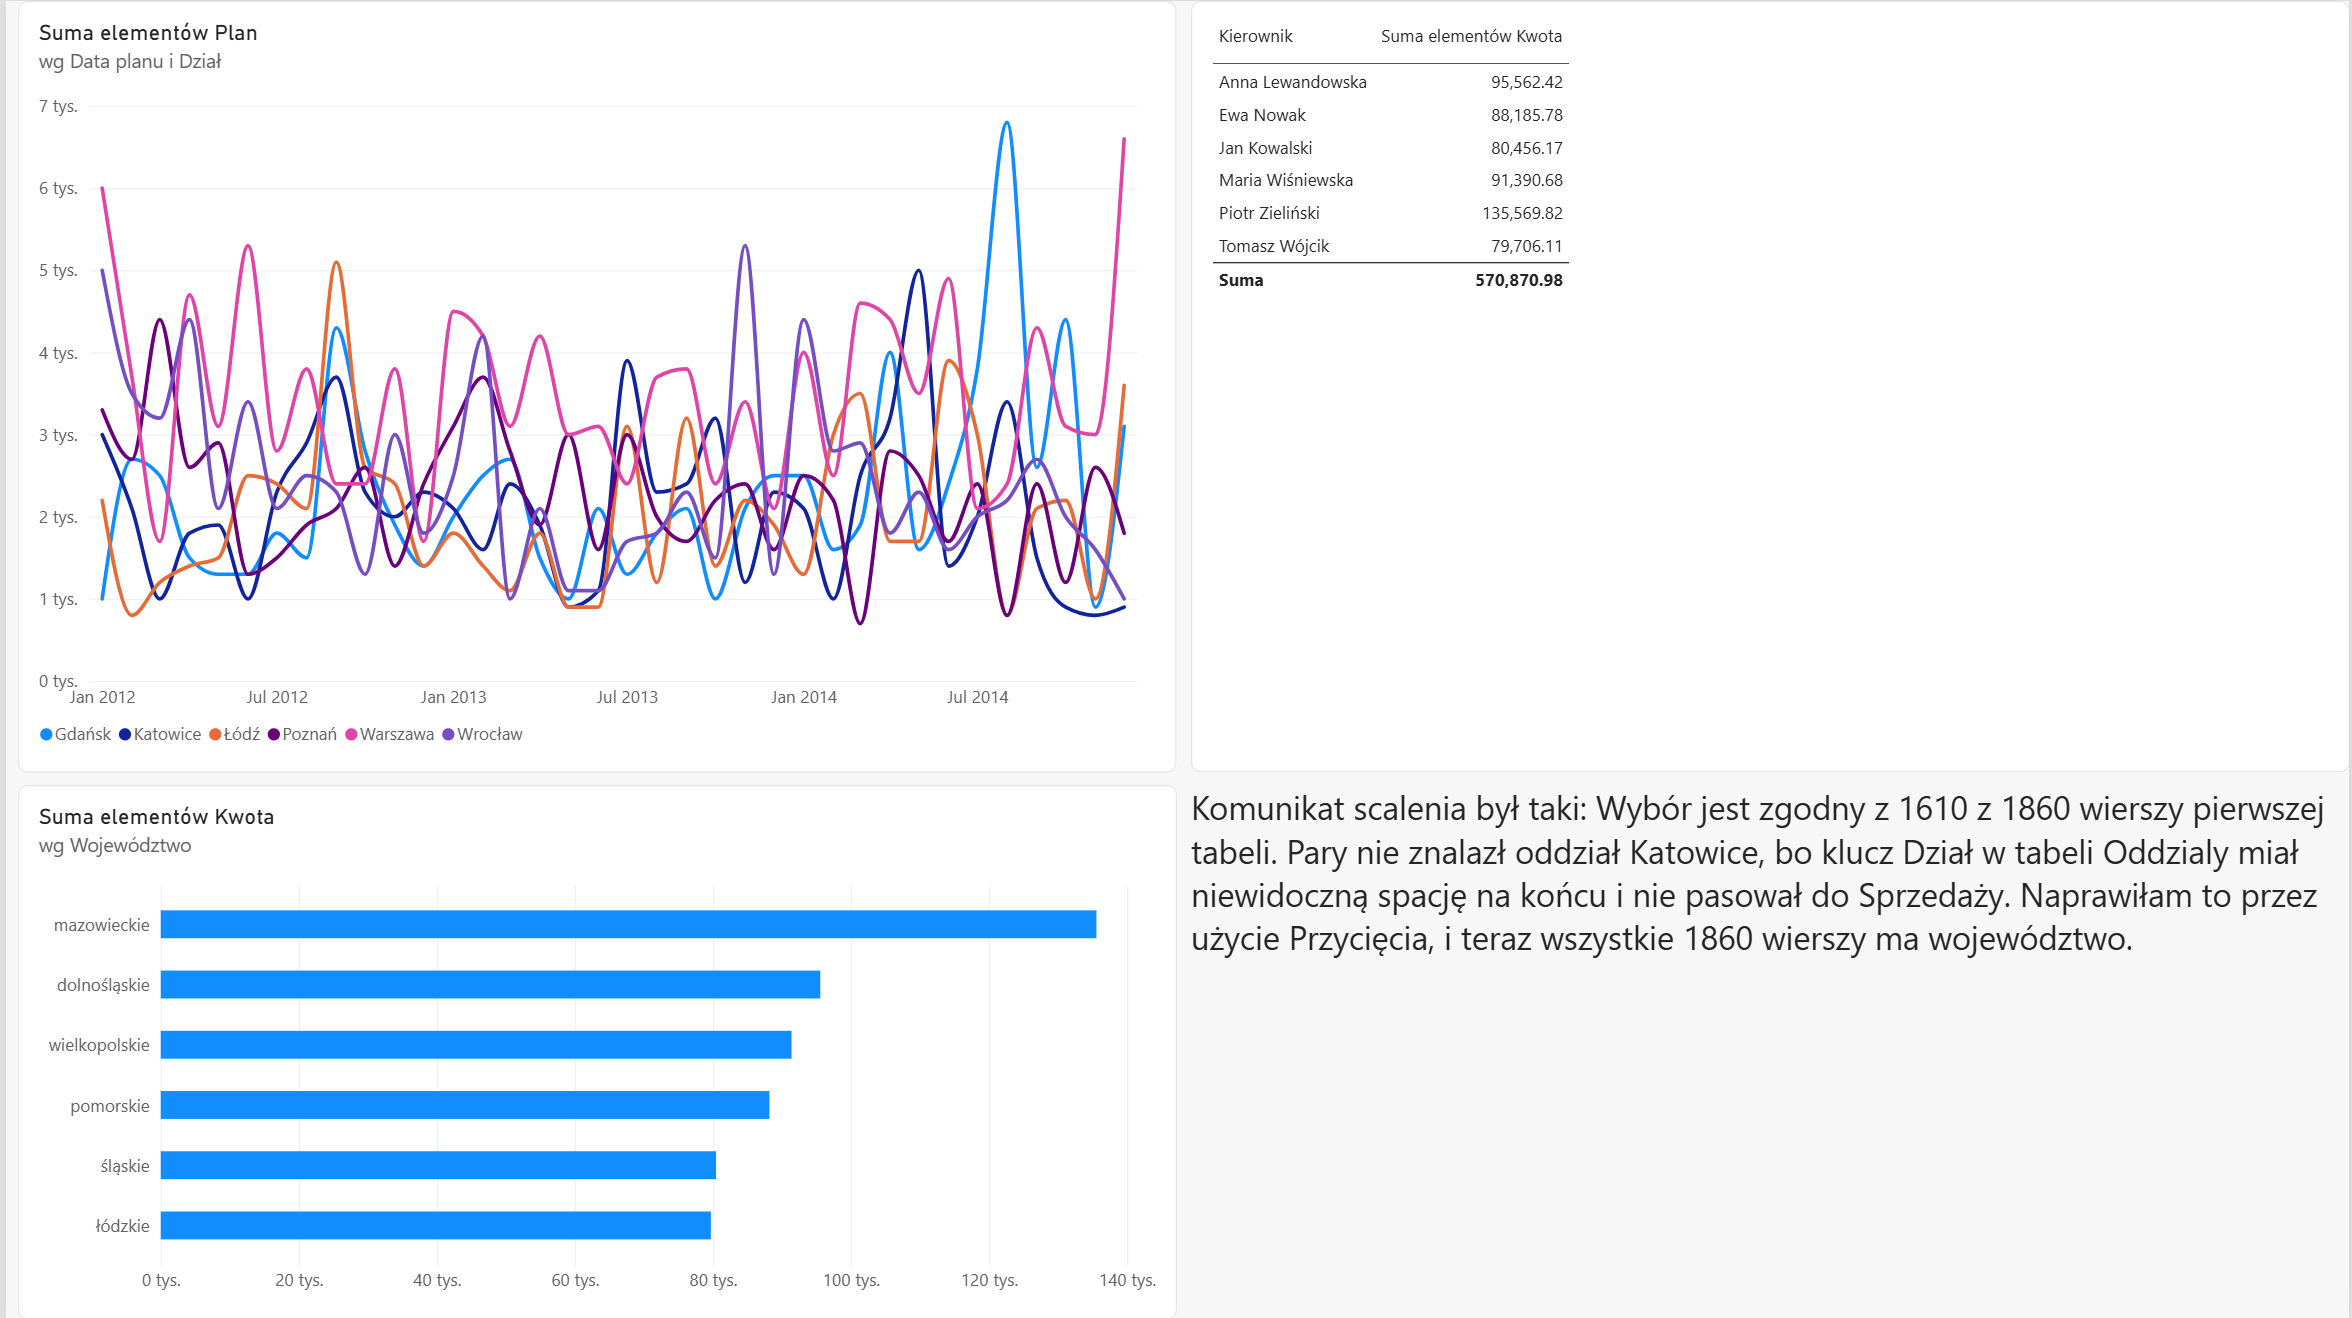

The dashboard page shown, as its layout file describes it:
{"tool":"powerbi","page":{"name":"Strona 2","canvas":[1920,1080],"ordinal":1},"visuals":[{"type":"lineChart","fields":{"Category":["Plan.Data planu"],"Series":["Plan.Dział"],"Y":["Sum(Plan.Plan)"]},"box":[10.3,0,949.7,632.4],"z":0},{"type":"clusteredBarChart","fields":{"Category":["Sprzedaż.Województwo"],"Y":["Sum(Sprzedaż.Kwota)"]},"box":[10,642,950,438],"z":1},{"type":"tableEx","fields":{"Values":["Sprzedaż.Kierownik","Sum(Sprzedaż.Kwota)"]},"box":[970,0,950,632],"z":2},{"type":"textbox","box":[970,642,950,438],"z":3}]}

Visuals, with their boxes in screenshot pixels (x1, y1, x2, y2), scaled from the page's 1920x1080 canvas onto the 2352x1318 screenshot:
lineChart - Plan.Data planu x Plan.Dział: BBox(13, 0, 1176, 772)
clusteredBarChart - Sprzedaż.Województwo x Sum(Sprzedaż.Kwota): BBox(12, 783, 1176, 1317)
tableEx - Sprzedaż.Kierownik x Sum(Sprzedaż.Kwota): BBox(1188, 0, 2351, 771)
textbox: BBox(1188, 783, 2351, 1317)
